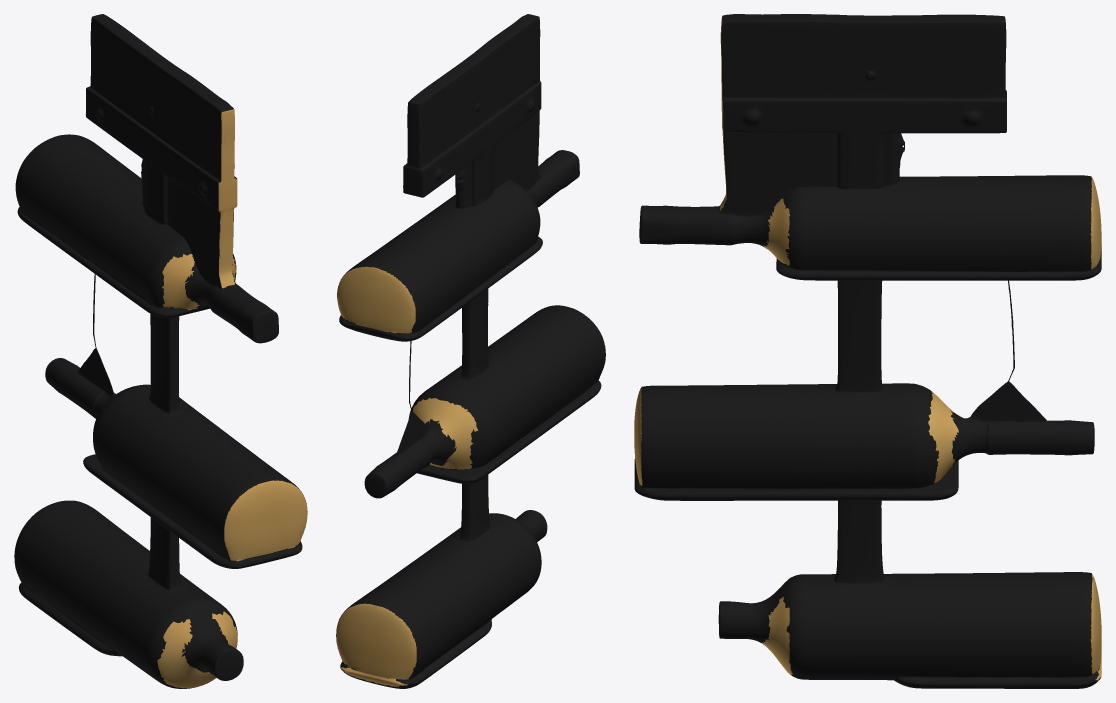
3 renders of one model, left to right at view 1: azimuth 30°, elevation 25°; view 2: azimuth 150°, elevation 25°; view 3: azimuth 270°, elevation 25°, orthographic. The views are drawn at different scales.
Parts seen in each view (by area): view 1: metal, wood; view 2: metal, wood; view 3: metal, wood.
Part boxes in pixels (<box>): metal: <box>14,14,307,688</box>; wood: <box>157,109,307,688</box>; metal: <box>336,14,605,688</box>; wood: <box>336,266,478,686</box>; metal: <box>634,14,1101,688</box>; wood: <box>634,18,1101,681</box>.
Size of the model in its own units: 0.2995 by 1.9 by 1.23.
